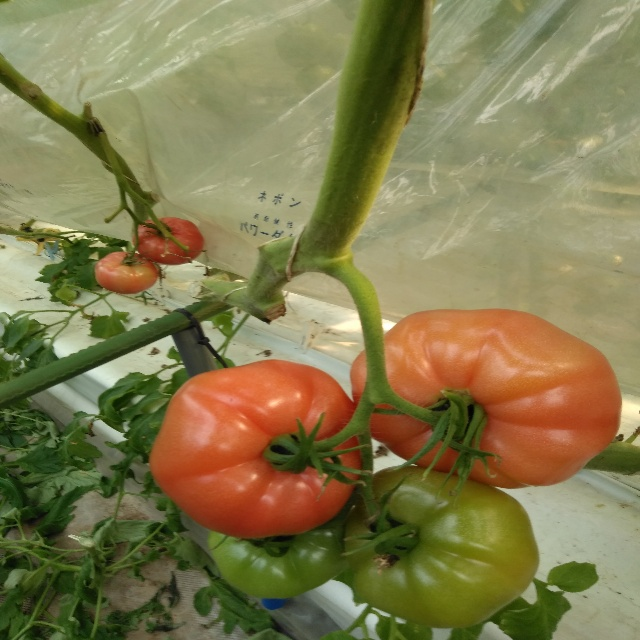b_fully_ripened: (148, 360, 366, 539), (132, 217, 205, 266)
b_green: (342, 464, 539, 630), (208, 505, 350, 599)
b_half_ripened: (350, 307, 622, 489), (94, 252, 159, 294)
